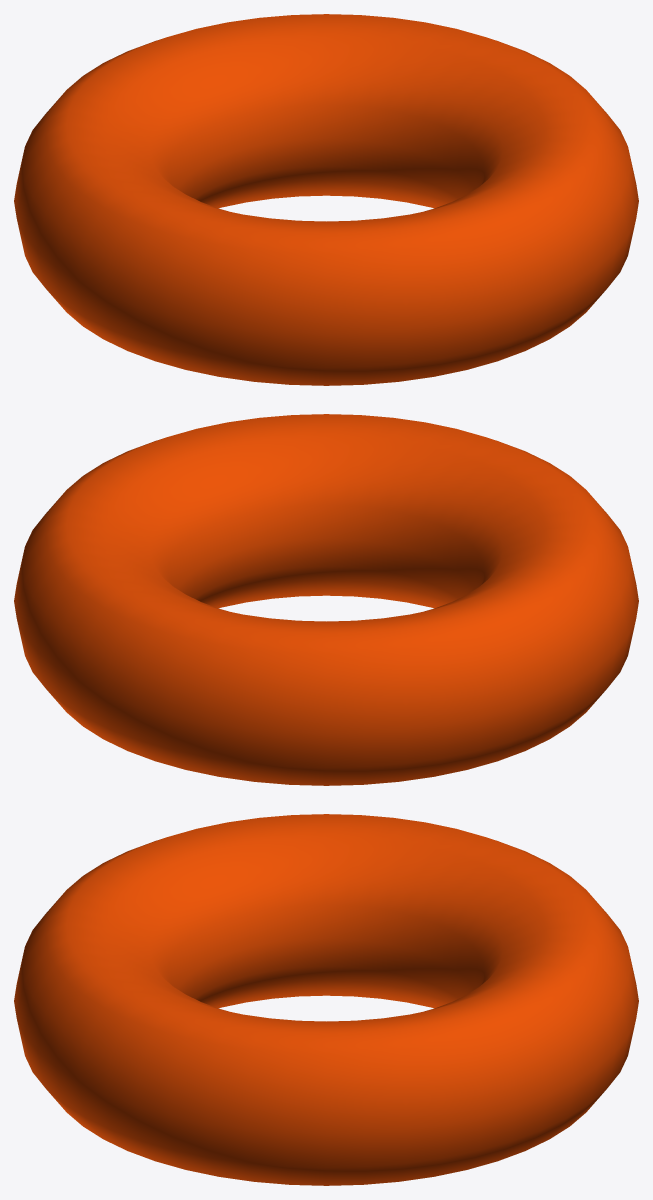
File: boia5.fbx
3 renders of one model, top to bottom at view 1: azimuth 30°, elevation 25°; view 2: azimuth 150°, elevation 25°; view 3: azimuth 270°, elevation 25°, orthographic.
Visible parts, largest first — view 1: Torus; view 2: Torus; view 3: Torus.
Boxes of the visible parts, x1=… form: Torus: x1=14, y1=14, x2=638, y2=385; Torus: x1=14, y1=414, x2=638, y2=785; Torus: x1=14, y1=814, x2=638, y2=1185.
Bounding box in the file's own units: 126 × 35.79 × 126.
